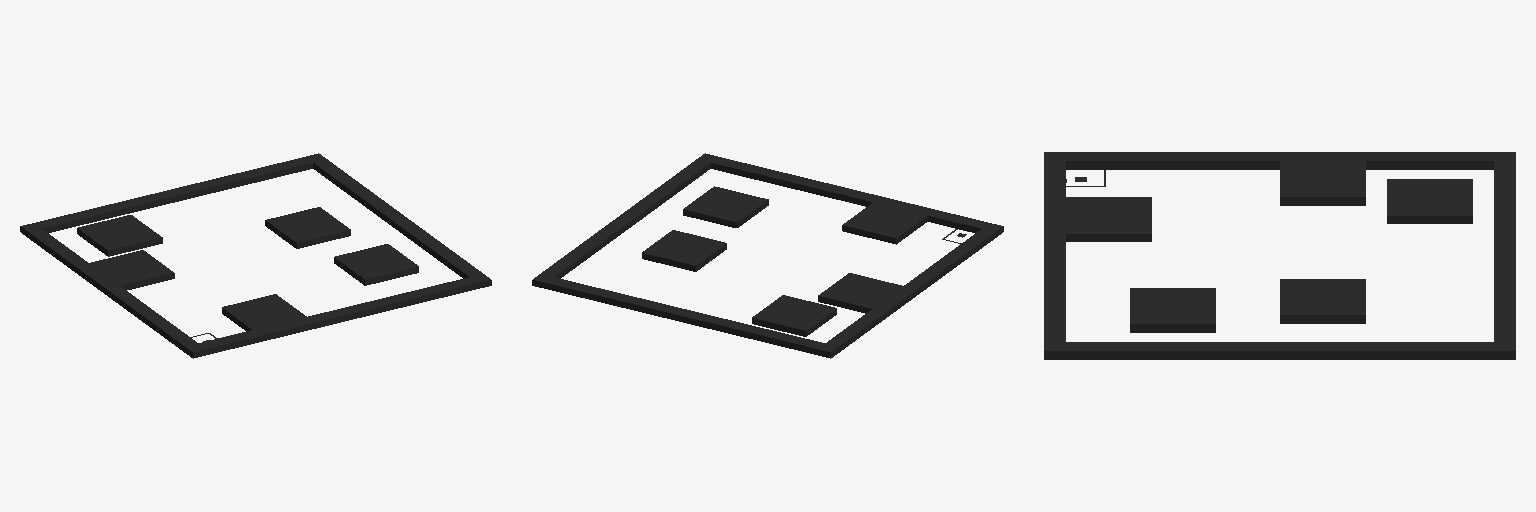
URDF robot description (Room26):
<robot name="Room26">
    <link name="_name">
        <visual> 
            <origin rpy="0.0 0.0 0.0" xyz="-0.47033727325001345 -0.49025366849392743 -0.010000000000000005" />
                <geometry>
                    <mesh filename="Room26/Room26.obj" scale="1 1 0.1" />
                </geometry>

            <material name="black">
                <color rgba="0.2 0.2 0.2 0.95" />
            </material>
        </visual>

       <collision concave="yes" name="collision_0">
            <origin rpy="0.0 0.0 0.0" xyz="-0.47033727325001345 -0.49025366849392743 -0.010000000000000005" />
            <geometry>
                <mesh filename="Room26/Room26_vhacd.obj" scale="1 1 0.1" />
            </geometry>
        </collision>

        <inertial> 
            <mass value="0" />
            <inertia ixx="0" ixy="0" ixz="0" iyy="0" iyz="0" izz="0" />
        </inertial> 
    </link>
</robot>

--- What the picture shows (computed from the rendered views, not written in the file) ---
Views: 3 orthographic renders of the robot side by side, from view 1: azimuth 30°, elevation 25°; view 2: azimuth 150°, elevation 25°; view 3: azimuth 270°, elevation 25°.
Robot: Room26 — 1 links, 0 joints (none); root link _name; default pose: all joints at 0.
Links seen in each view (by area): view 1: _name; view 2: _name; view 3: _name.
Boxes of the visible links, x1,y1,x2,y2 form: _name: (20,153,491,358); _name: (532,153,1003,358); _name: (1044,152,1515,359).
Bounding box of the posed robot: 1 × 1 × 0.02 m (x, y, z).
Meshes: 1 distinct files referenced, 1 mesh visuals loaded (1 OBJ).